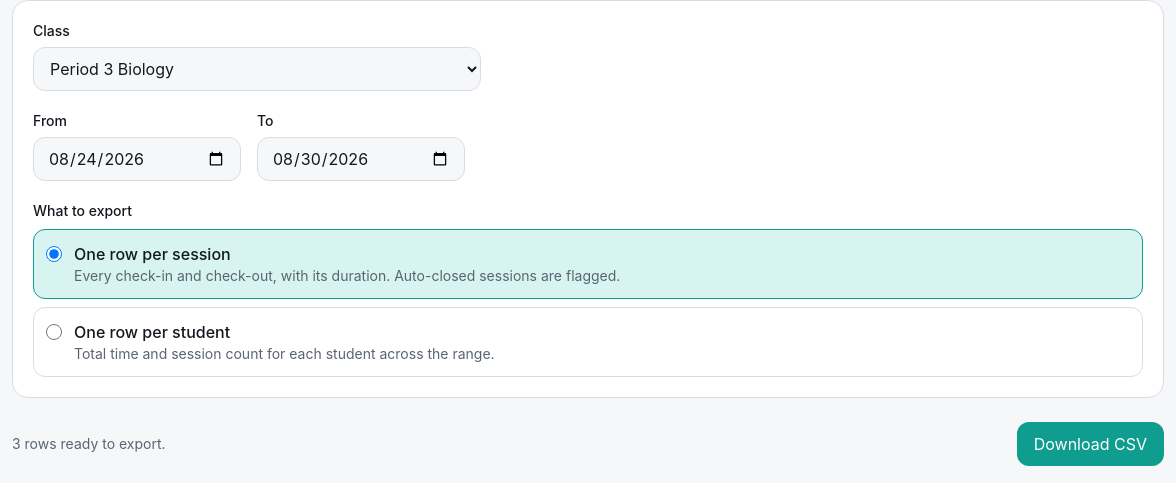
ExportPanel › switches the count when the summary mode collapses sessions per student
Expected: the text "3 rows ready to export." is shown, [12,435,166,452]
Click the radio button labelled "One row per student": (54, 332) [46,324,62,340]
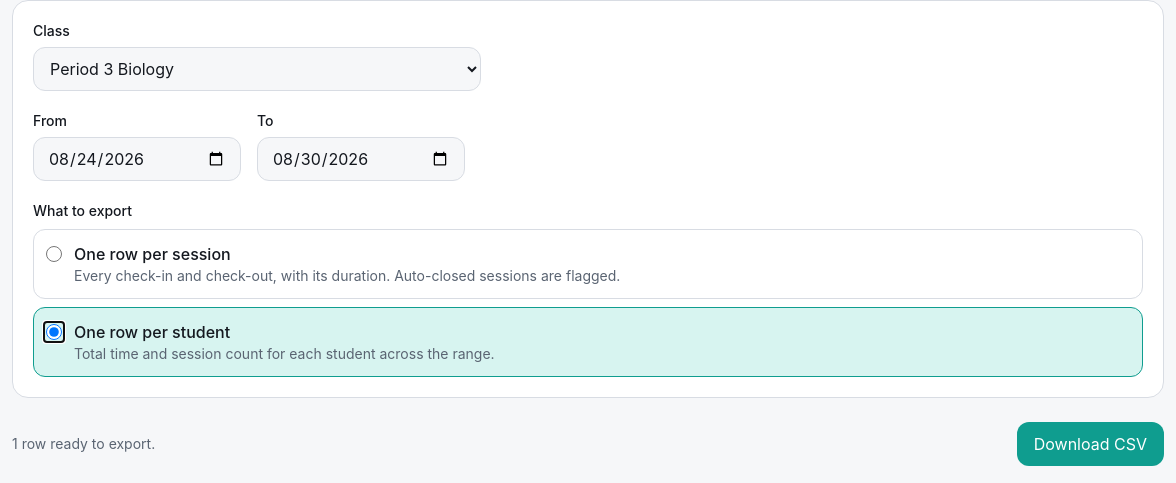
Result: the text "1 row ready to export." is shown at [12,435,155,452]
